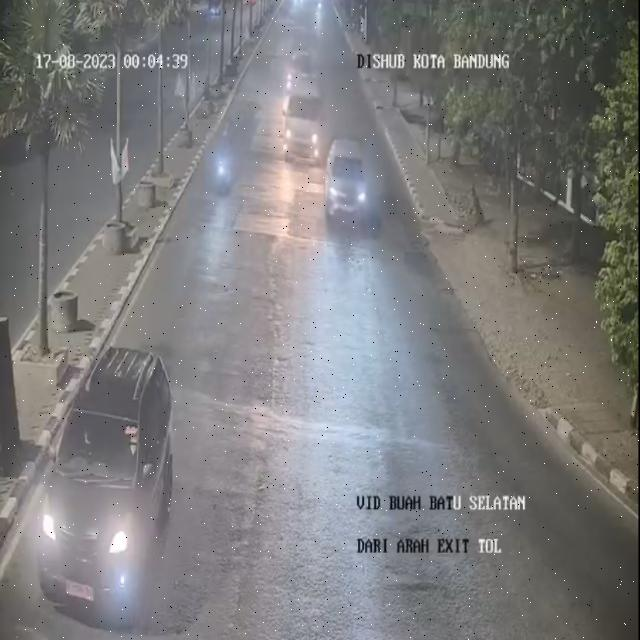cars: (31, 341, 177, 637), (325, 133, 370, 239), (284, 75, 326, 157), (284, 44, 316, 96)
motorcycle: (206, 123, 242, 206)
